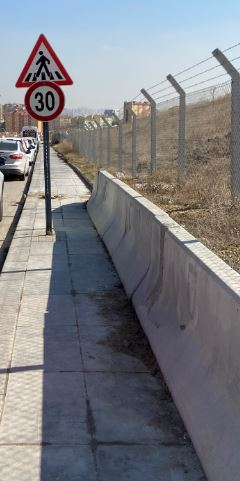30 Km Hiz Siniri: (23, 85, 67, 117)
Yaya Gecidi: (18, 35, 77, 84)
